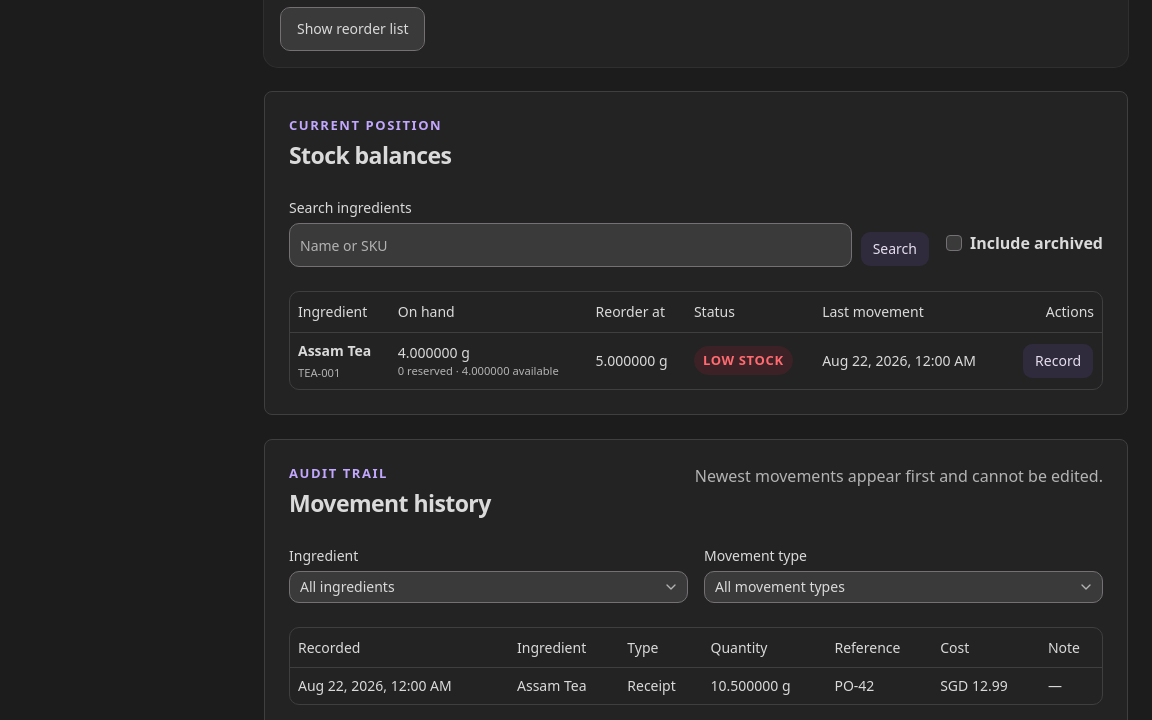
Scenario: InventoryManagementPage › records a receipt without client-owned actor, location currency, or balance data
(page scrolled)
Click the button "Record" at (1058, 361), box [1022, 343, 1094, 379]
(page scrolled)
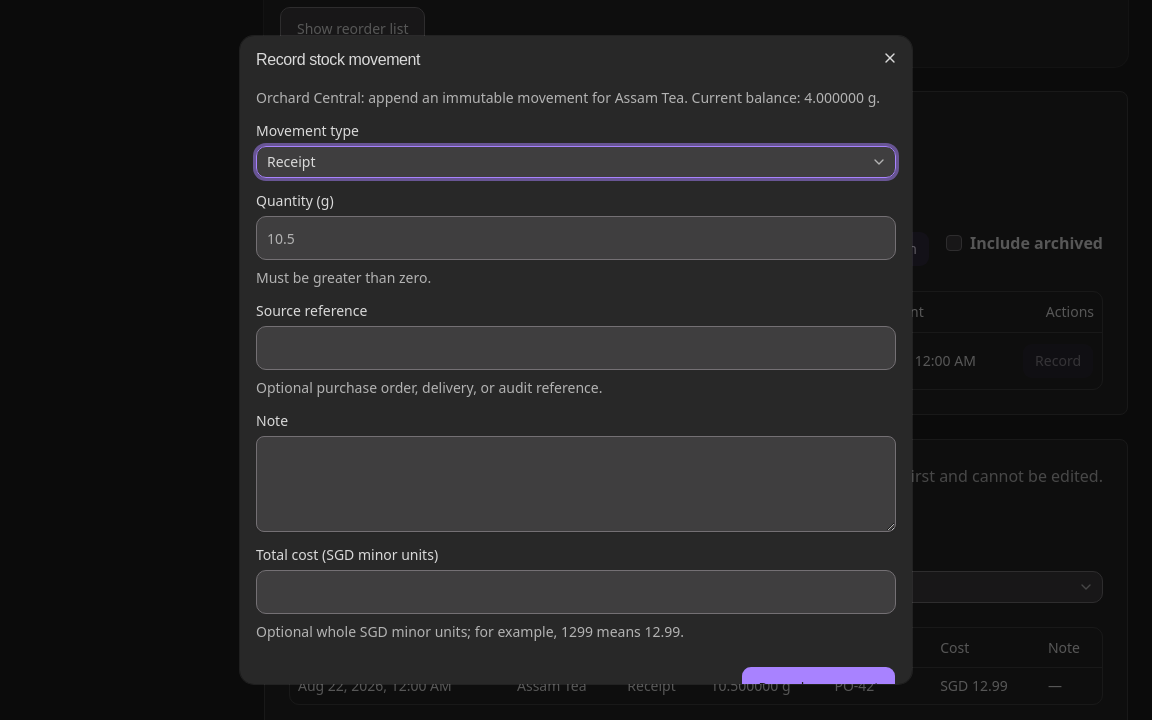
Type "10.500000" into the field labelled "Quantity (g)" at (576, 238), box [256, 216, 896, 260]
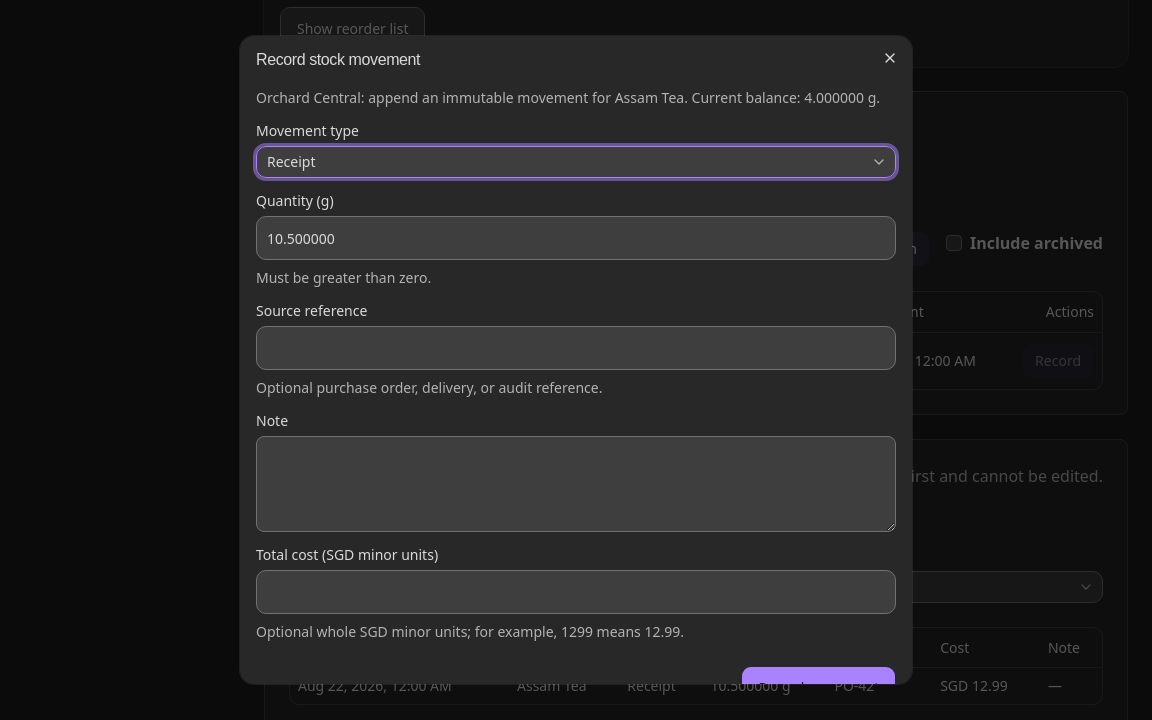
Type "PO-42" into the field labelled "Source reference" at (576, 348), box [256, 326, 896, 370]
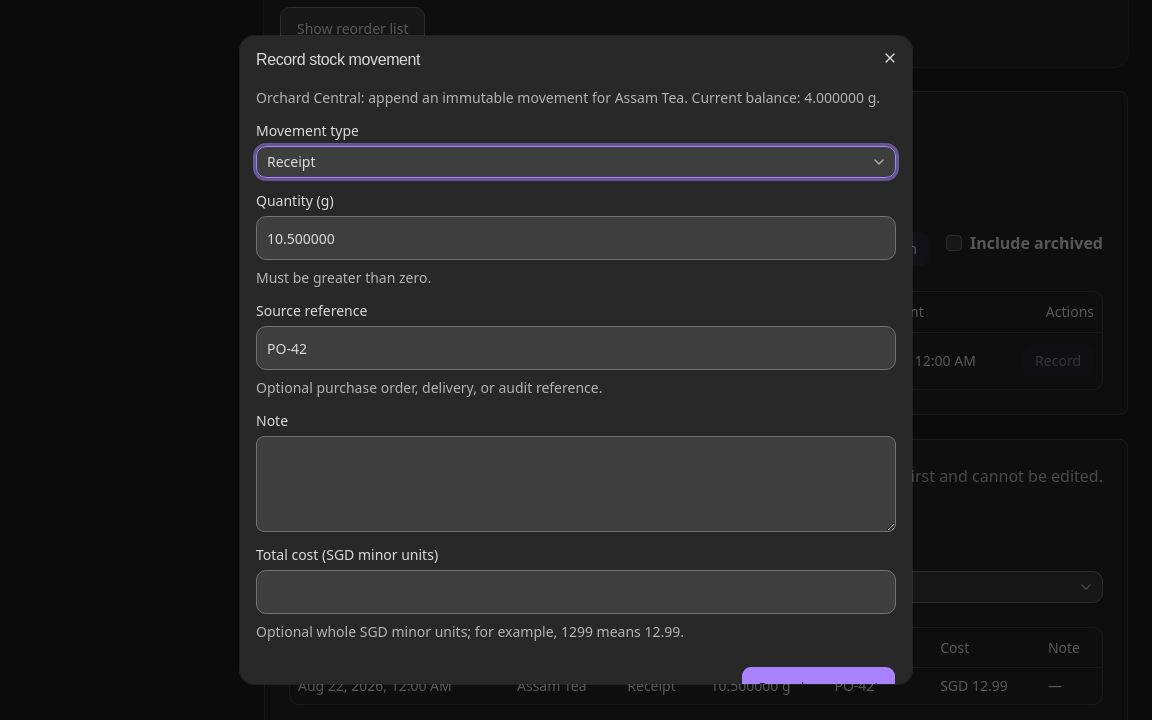
Type "1299" into the number field labelled "Total cost (SGD minor units)" at (576, 592), box [256, 570, 896, 614]
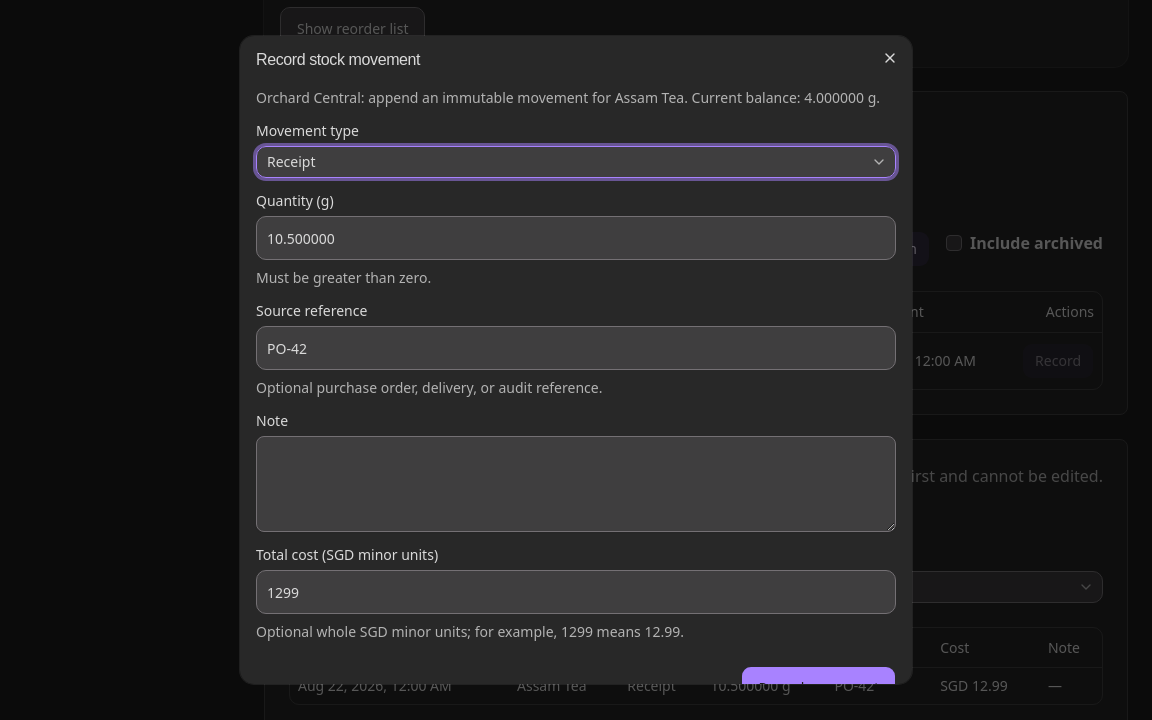
Submit the form named "Record movement", box [256, 124, 896, 710]
(page scrolled)
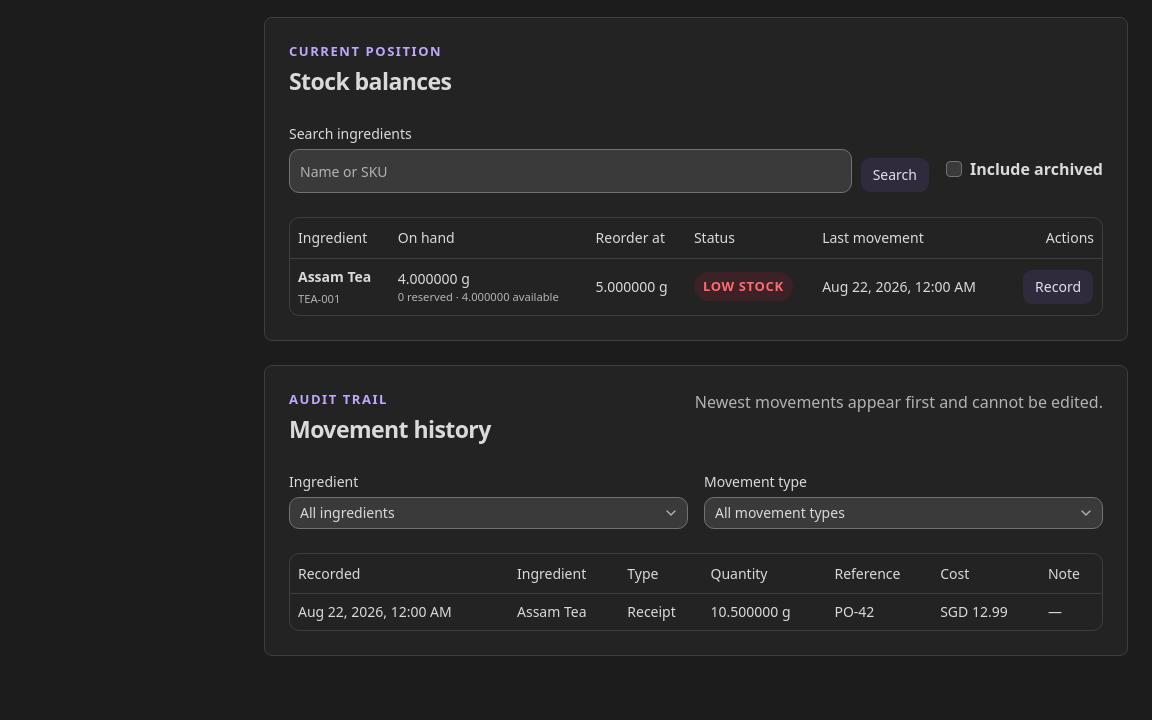
Expected: the dialog is gone
